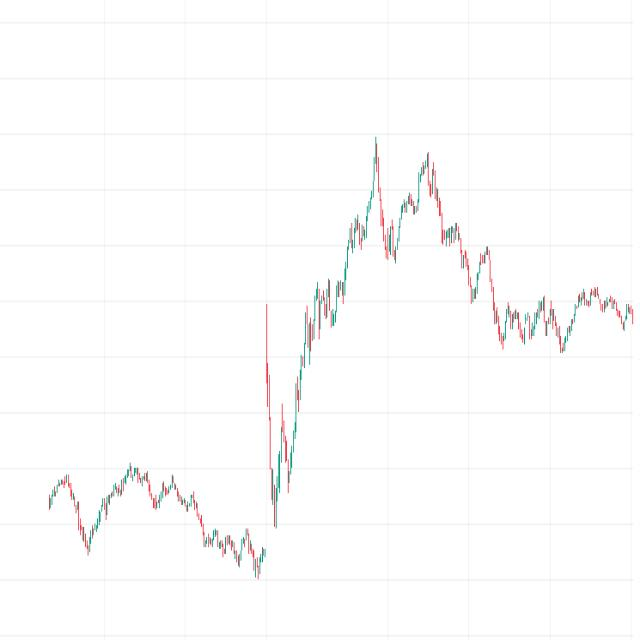Rising-Wedge: (253, 114, 386, 570)
